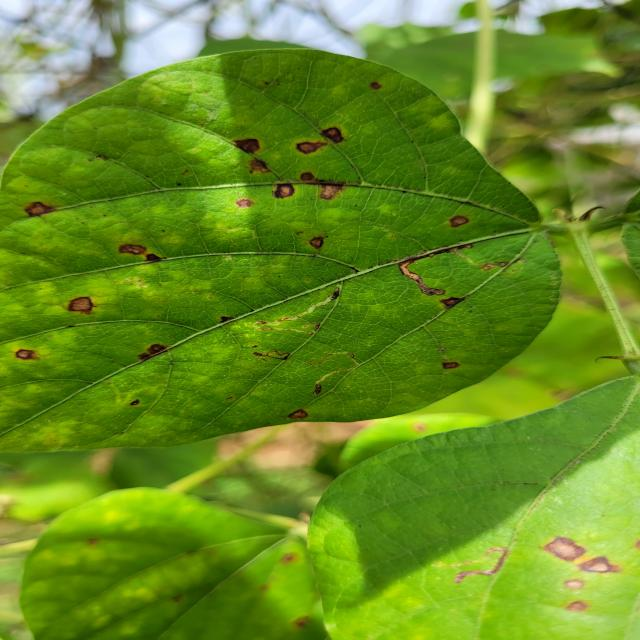Dolicos bean_cercospora leaf spot: (0, 40, 562, 451), (288, 373, 640, 640)
